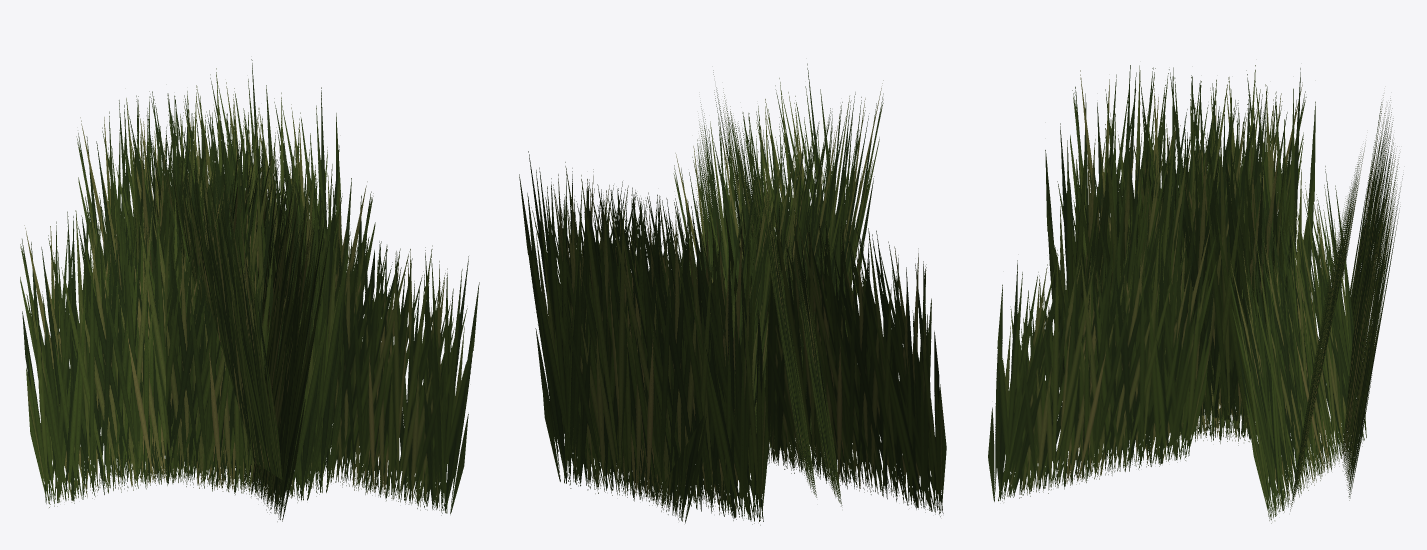
File: GrassClump_1.fbx
3 views of the same model, side by side, from view 1: azimuth 30°, elevation 25°; view 2: azimuth 150°, elevation 25°; view 3: azimuth 270°, elevation 25° (orthographic). The views are drawn at different scales.
Visible parts, largest first — view 1: GrassClump_1; view 2: GrassClump_1; view 3: GrassClump_1.
Boxes of the visible parts, x1,y1,x2,y2 form: GrassClump_1: (20,59,479,521); GrassClump_1: (519,63,946,525); GrassClump_1: (988,65,1403,523).
Bounding box in the file's own units: 0.4251 × 0.4348 × 0.419.
